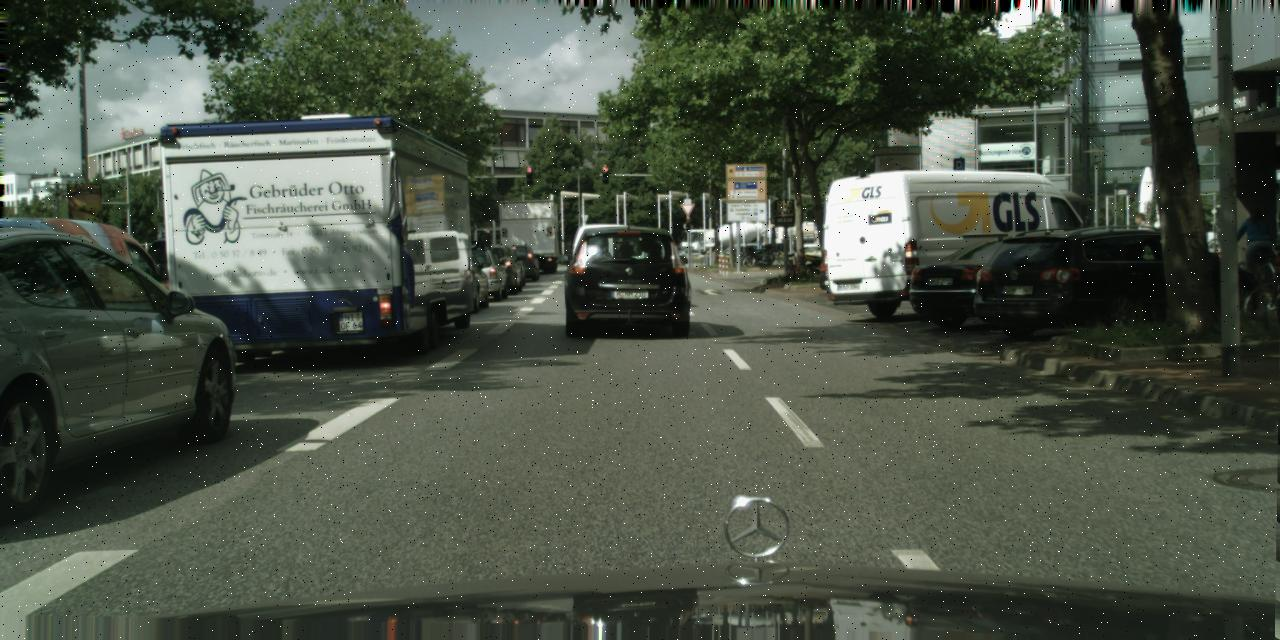ped: (1240, 205, 1272, 282), (1130, 213, 1160, 288), (707, 242, 715, 262)
